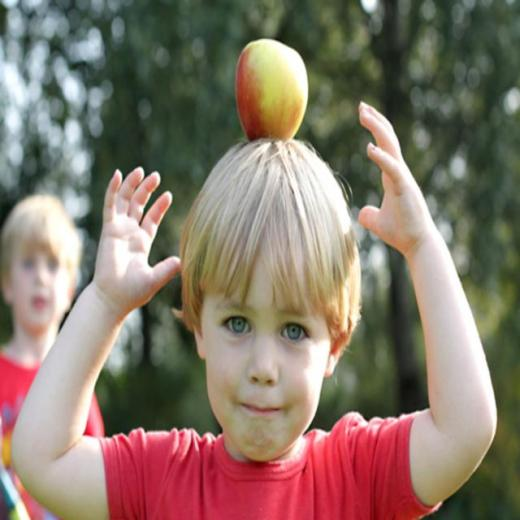Apple: (231, 37, 310, 140)
